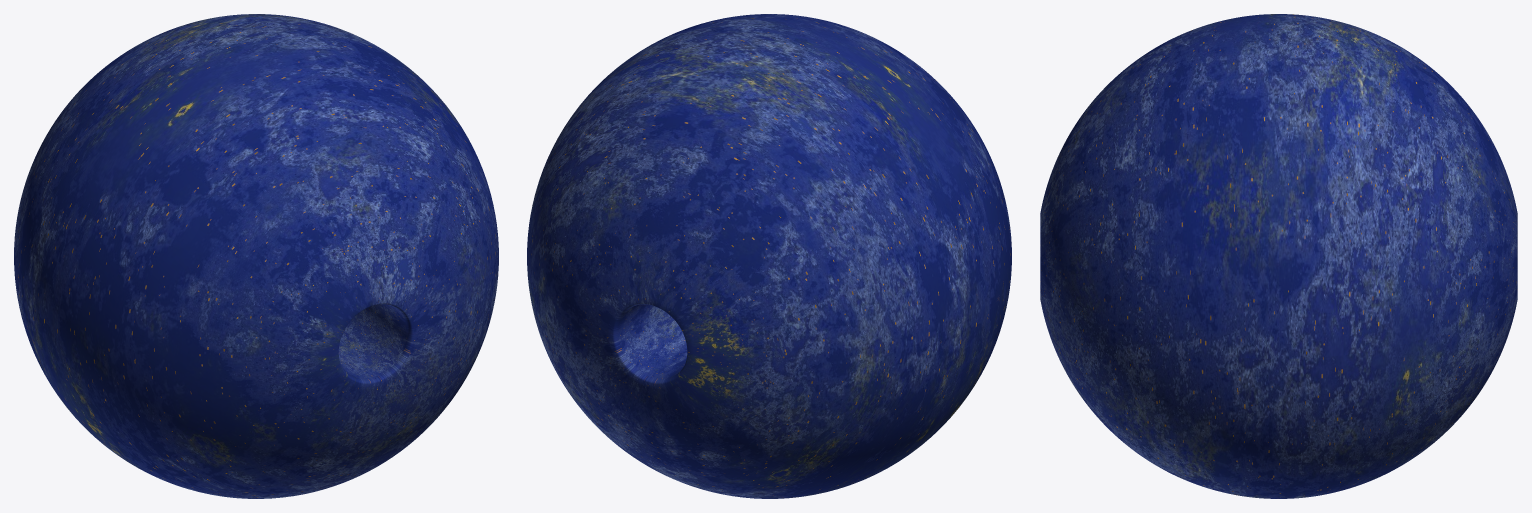
File: lapis-lazuli-6mm.glb
3 views of the same model, side by side, from view 1: azimuth 30°, elevation 25°; view 2: azimuth 150°, elevation 25°; view 3: azimuth 270°, elevation 25° (orthographic).
Visible parts, largest first — view 1: lapis-lazuli; view 2: lapis-lazuli; view 3: lapis-lazuli.
Part boxes in pixels (bbox=[...]): lapis-lazuli: bbox=[14, 14, 498, 498]; lapis-lazuli: bbox=[527, 14, 1011, 498]; lapis-lazuli: bbox=[1040, 14, 1517, 498].
Bounding box in the file's own units: 0.006 × 0.006 × 0.0059.
1 material, 1 textured.
